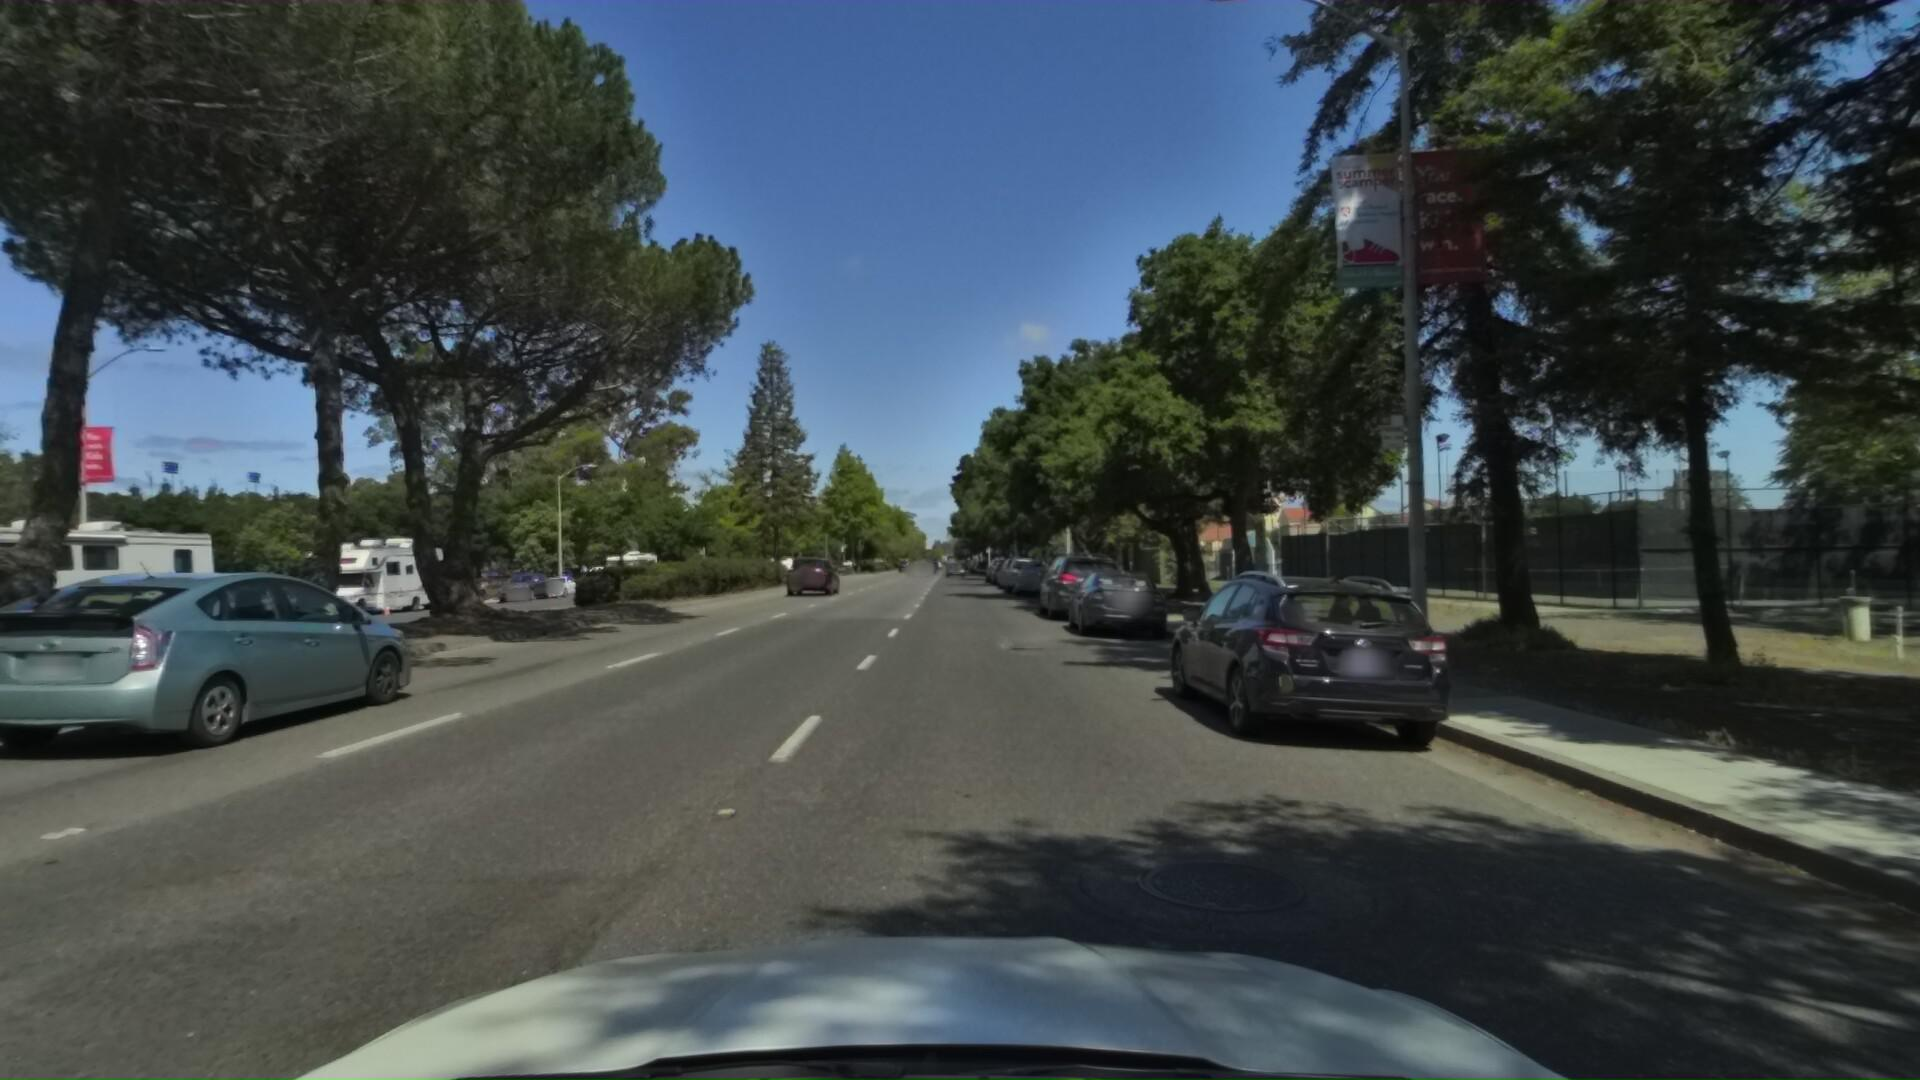car: (0, 560, 429, 781), (1159, 553, 1487, 777), (1060, 556, 1174, 637), (1033, 539, 1131, 618), (411, 568, 492, 605), (785, 549, 841, 597), (491, 562, 556, 597), (1000, 545, 1047, 587), (994, 546, 1040, 585), (1010, 554, 1055, 592), (529, 564, 585, 592), (988, 550, 1021, 580), (982, 547, 1015, 576)
other_vehicle: (0, 500, 218, 661), (278, 521, 450, 618), (599, 541, 661, 585)
